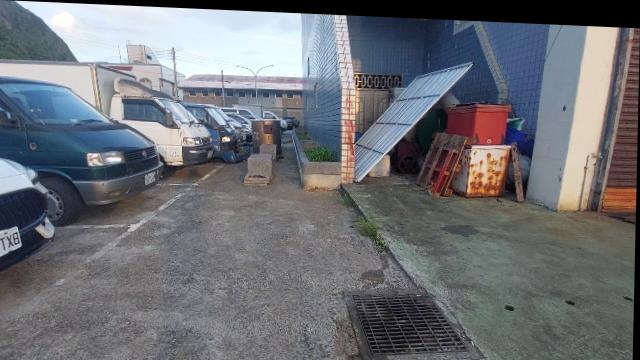pollute: (416, 128, 474, 193), (456, 139, 513, 194), (448, 99, 511, 141), (506, 112, 533, 150), (395, 133, 419, 172), (512, 136, 525, 197), (368, 149, 394, 174), (520, 150, 532, 176)
